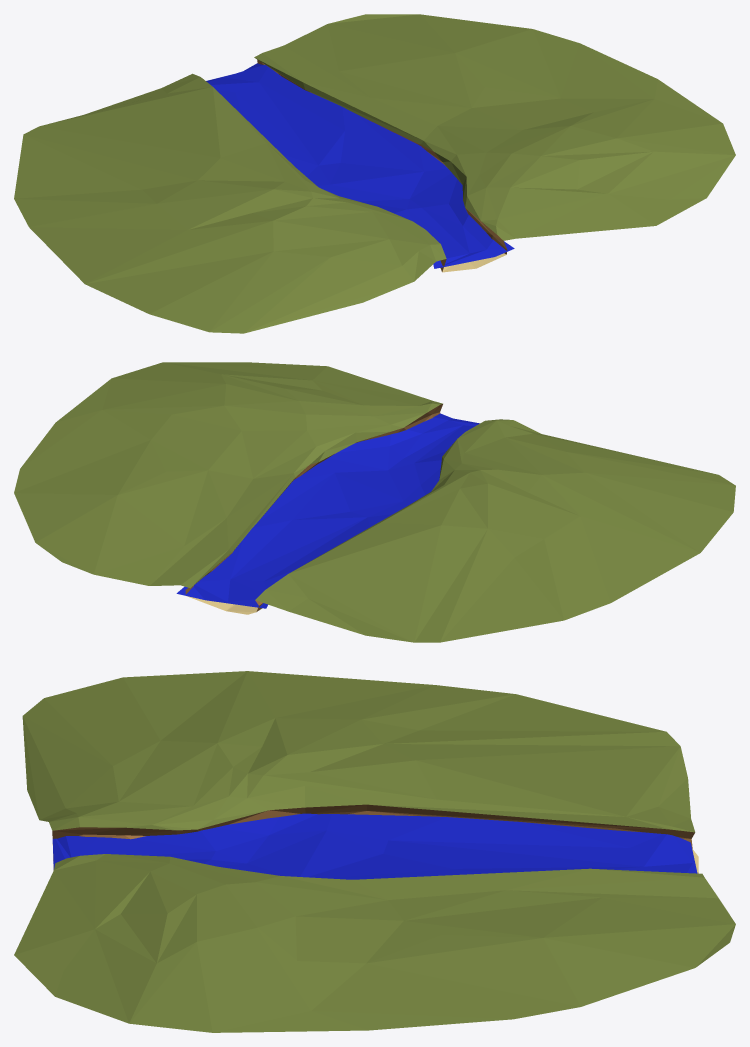
File: Terrain_River_Straight-01.FBX
3 renders of one model, top to bottom at view 1: azimuth 30°, elevation 25°; view 2: azimuth 150°, elevation 25°; view 3: azimuth 270°, elevation 25°, orthographic. The views are drawn at different scales.
Visible parts, largest first — view 1: Terrain_River_Straight-01; view 2: Terrain_River_Straight-01; view 3: Terrain_River_Straight-01.
Part boxes in pixels (x1,y1,x2,y2): Terrain_River_Straight-01: (14, 14, 735, 333); Terrain_River_Straight-01: (14, 362, 735, 642); Terrain_River_Straight-01: (14, 671, 735, 1032).
Bounding box in the file's own units: 6932 × 452 × 5491.
Materials: 2 (1 with a texture image).
